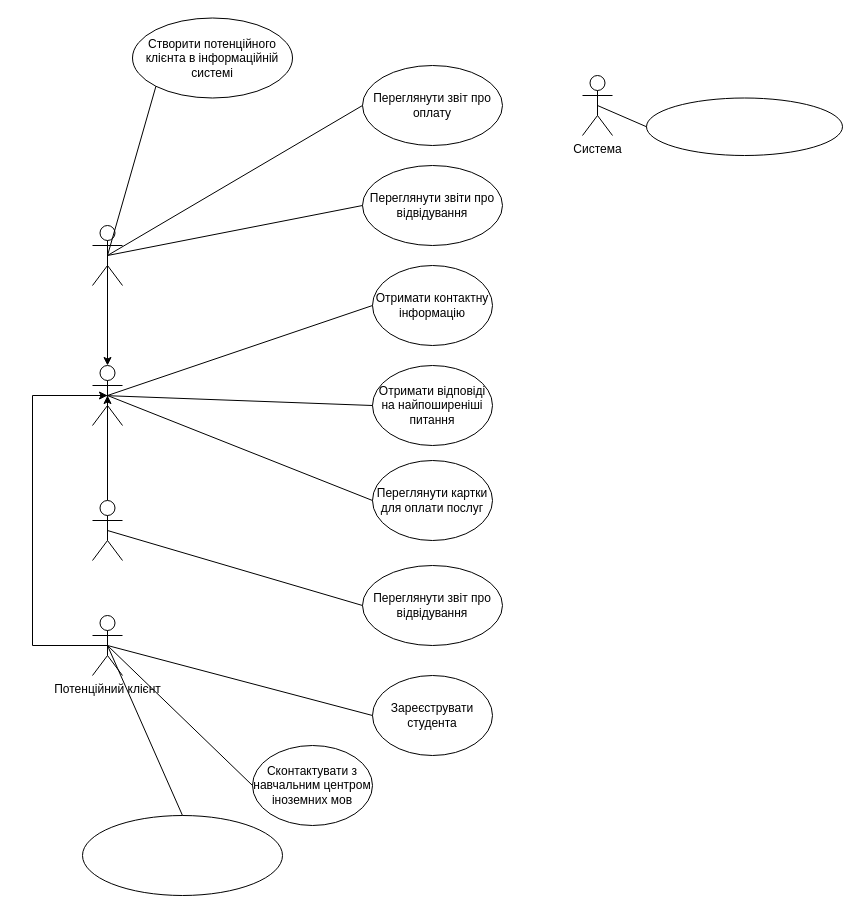
The diagram is 860 pixels wide and 913 high, and some of its shapes have lost their labels. Each missing label, with the centre of its shape:
"Авторизований користувач інформаційної системи" belongs at (x=107, y=395).
"Адміністратор" belongs at (x=107, y=255).
"Згенерувати угоду та супровідні документи" belongs at (x=744, y=126).
"Отримати посилання на веб-сторінку з формою реєстрації студента" belongs at (x=182, y=855).
"Студент \ Представник студента" belongs at (x=107, y=530).
